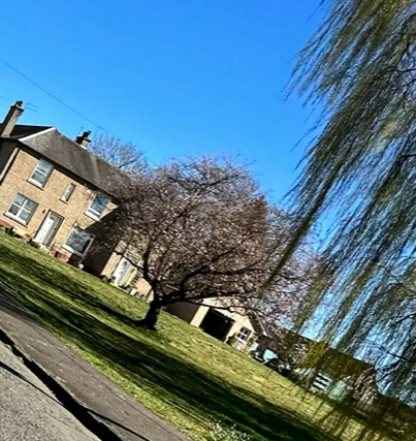tree: (82, 138, 297, 341)
